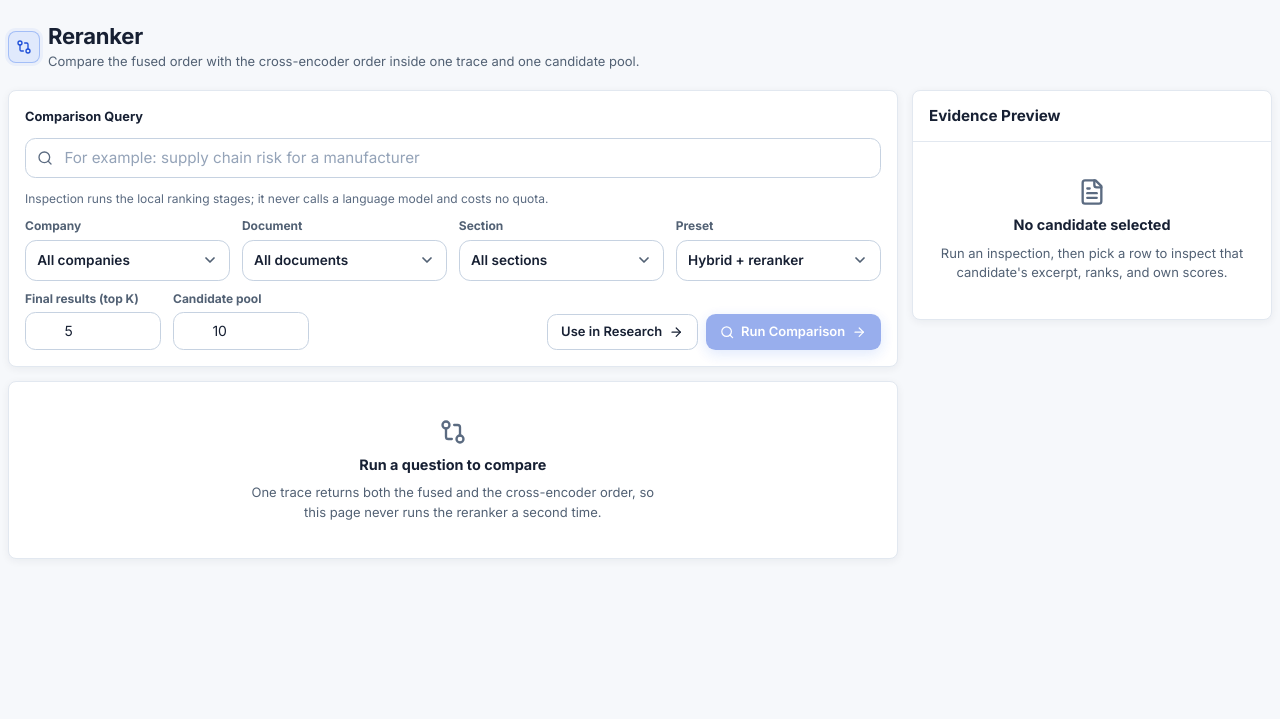
RerankerPanel › reports a skipped reranker stage instead of a comparison
This screenshot has width=1280, height=719.
Type "supply chain risk" into the field labelled "Comparison Query" at {"x": 453, "y": 158}, box x1=25 y1=138 x2=881 y2=178
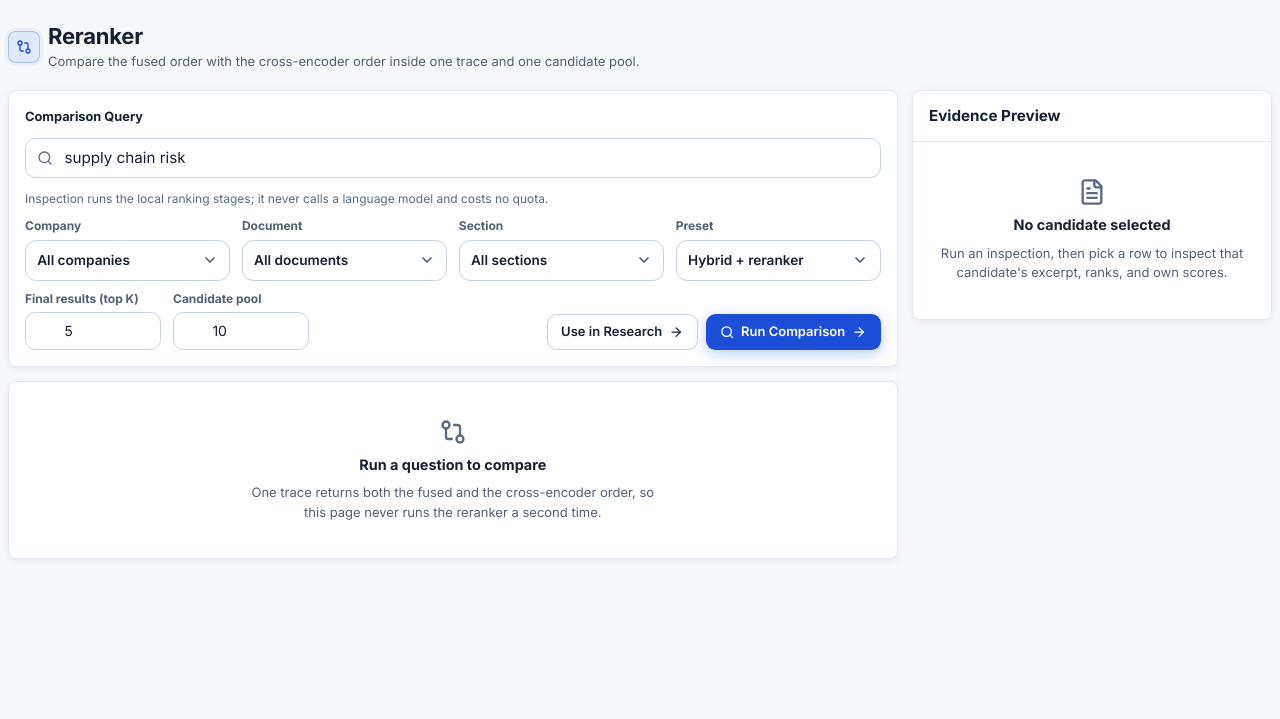
Submit the form labelled "Comparison Query", box x1=25 y1=107 x2=881 y2=350
(page scrolled)
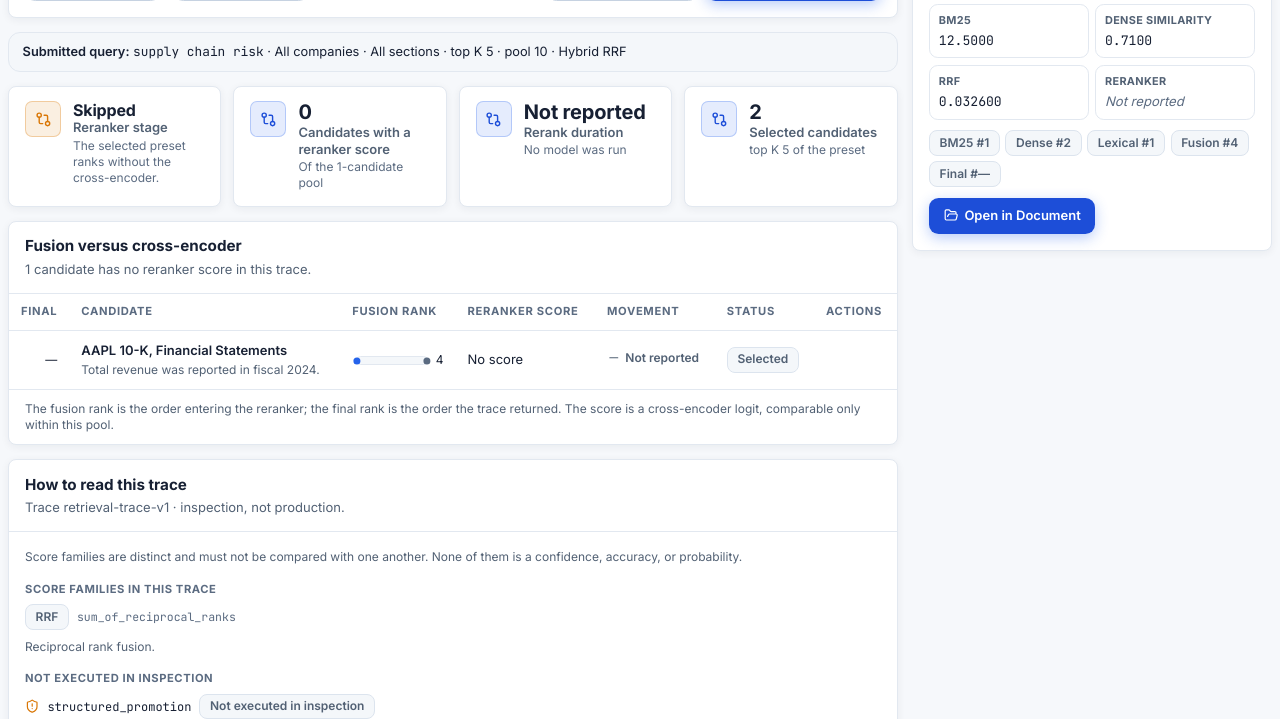
Result: the text "Skipped" is shown at x1=73 y1=100 x2=136 y2=120
Result: the text "The selected preset ranks without the cross-encoder." is shown at x1=73 y1=138 x2=204 y2=186
Result: the text "0" is shown at x1=298 y1=100 x2=312 y2=124
